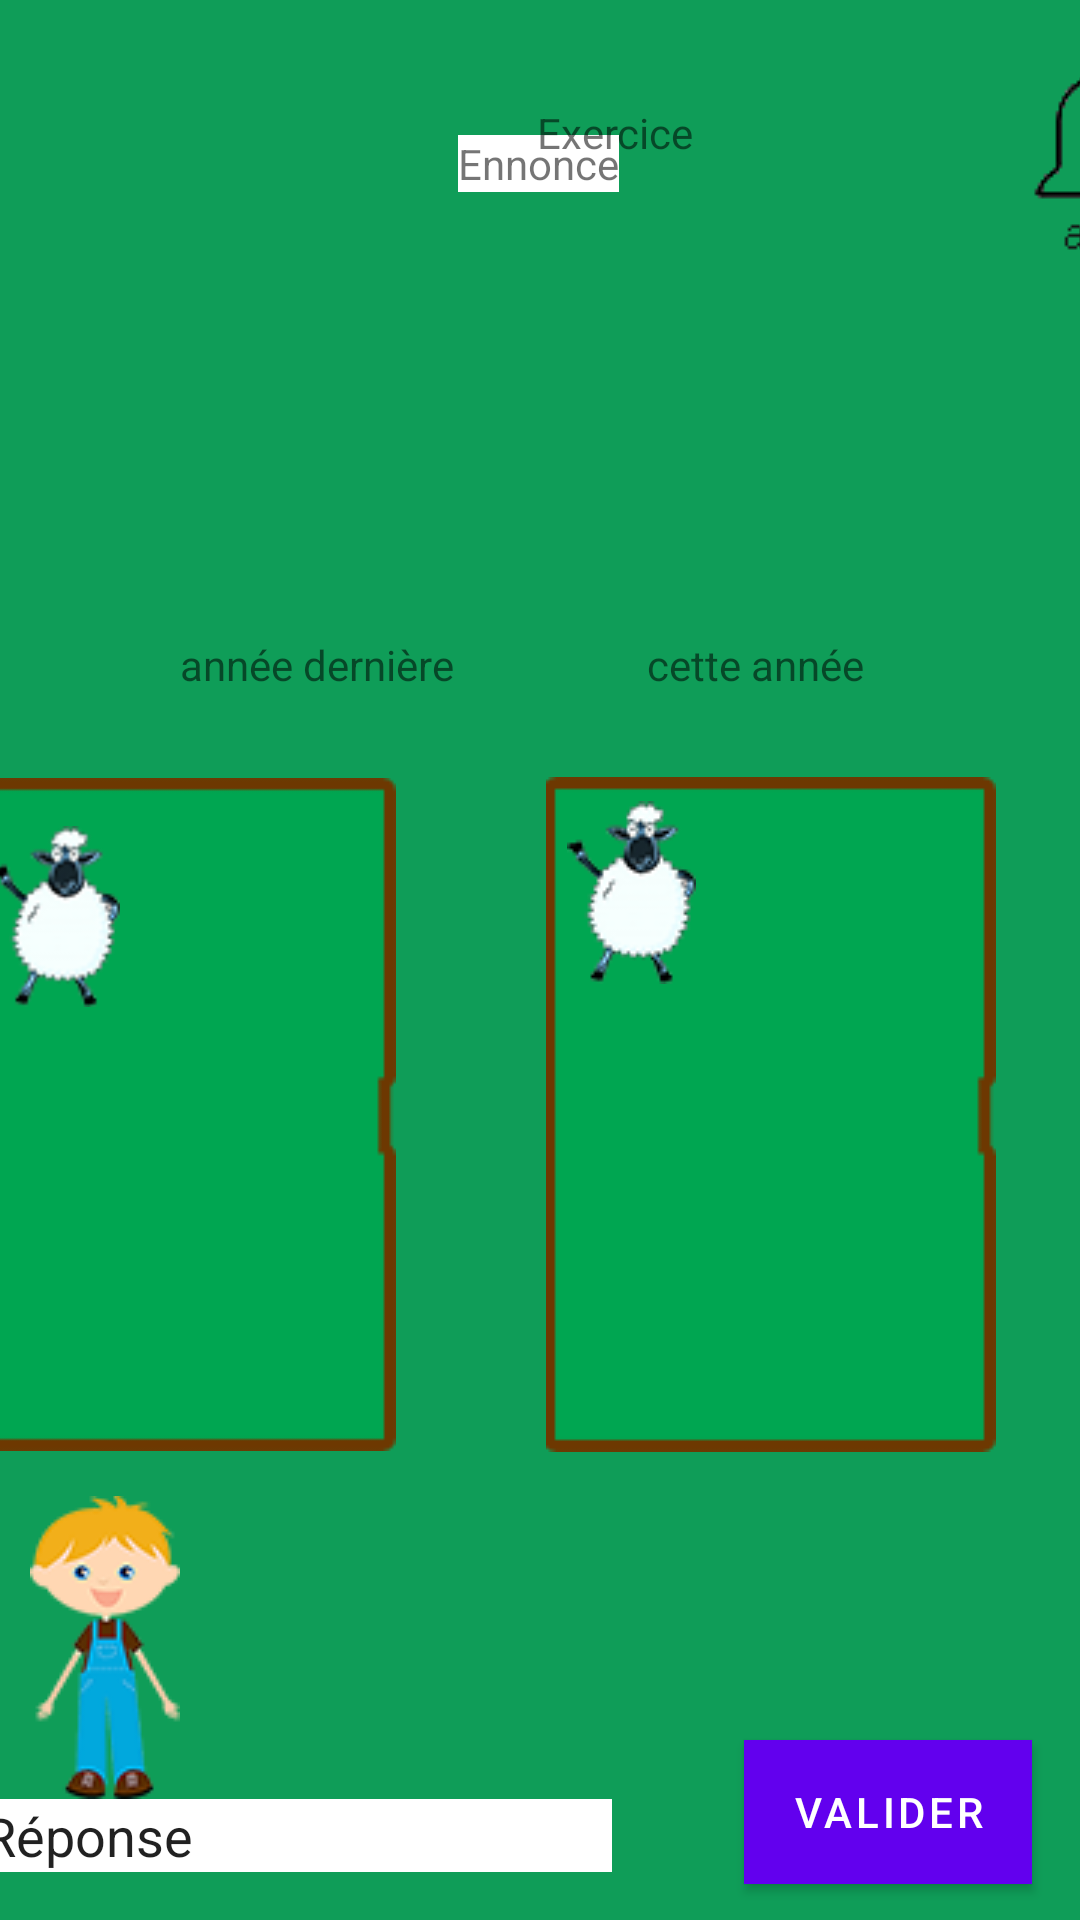

Named icons in this screenshot (1080×1920) and their bounding boxes, (x1, y1, x2, y2):
fermier: (30, 1496, 180, 1799)
